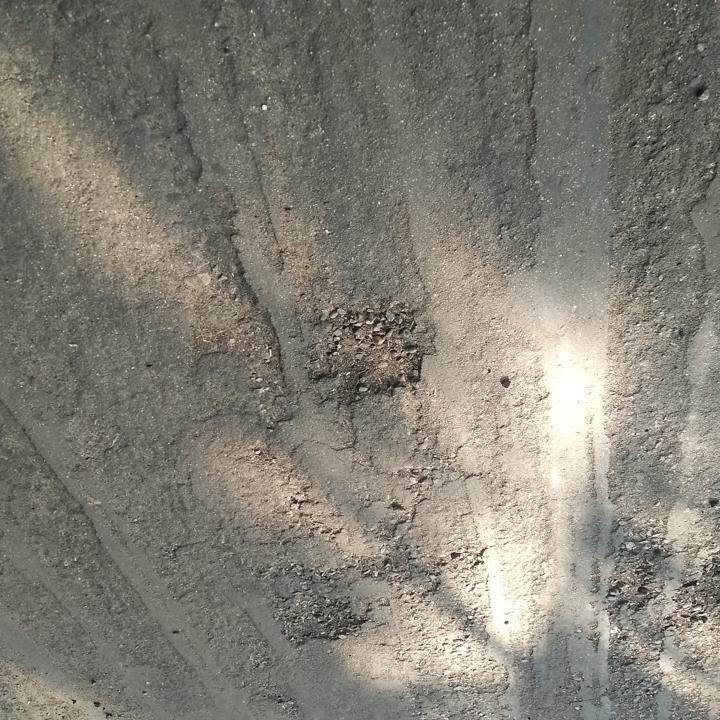pothole: (301, 298, 436, 407), (271, 586, 373, 647)
